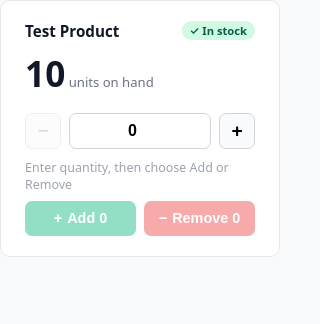
Part 4 — failed save › shows the server error message on failure
The image size is (320, 324).
Type "5" into the number field with class "sw__input" at (140, 131), box left=69, top=113, right=211, bottom=149
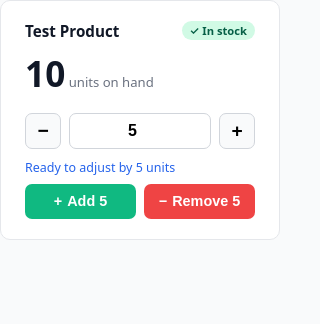
Click the button with class "sw__btn--add" at (80, 201), box left=25, top=184, right=136, bottom=219
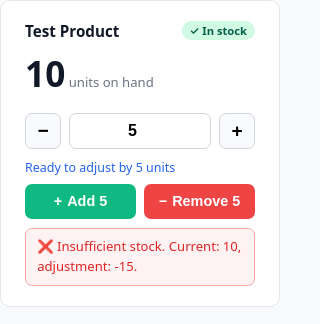
Now the message "❌ Insufficient stock. Current: 10, adjustment: -15." is shown, box left=25, top=228, right=255, bottom=286
Now the message with class "sw__error" shows "Insufficient stock", box left=37, top=237, right=241, bottom=275
